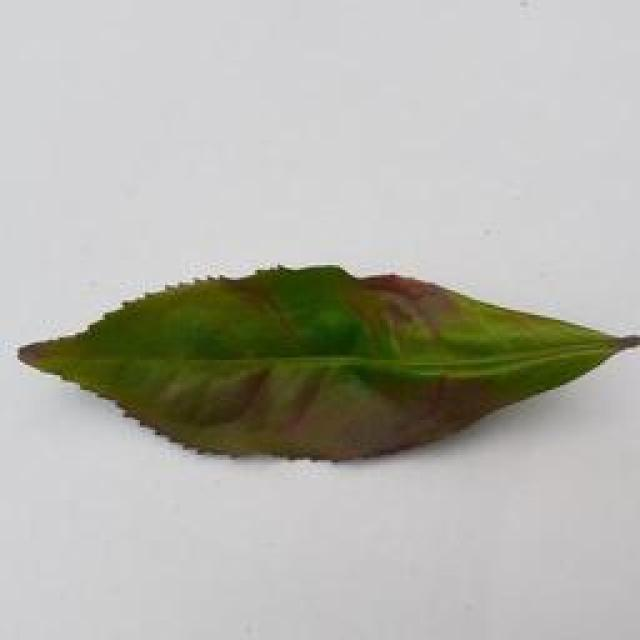Red Leaf Spot: (2, 257, 640, 465)
